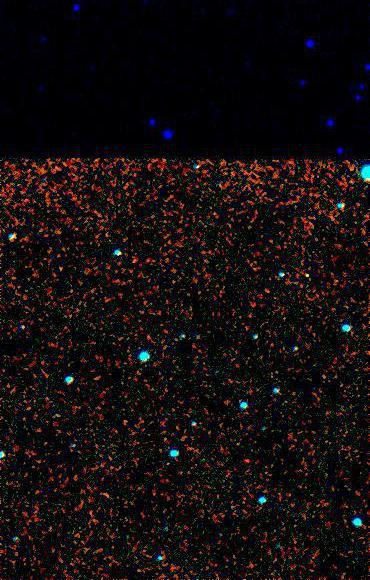star: (232, 448, 262, 478)
